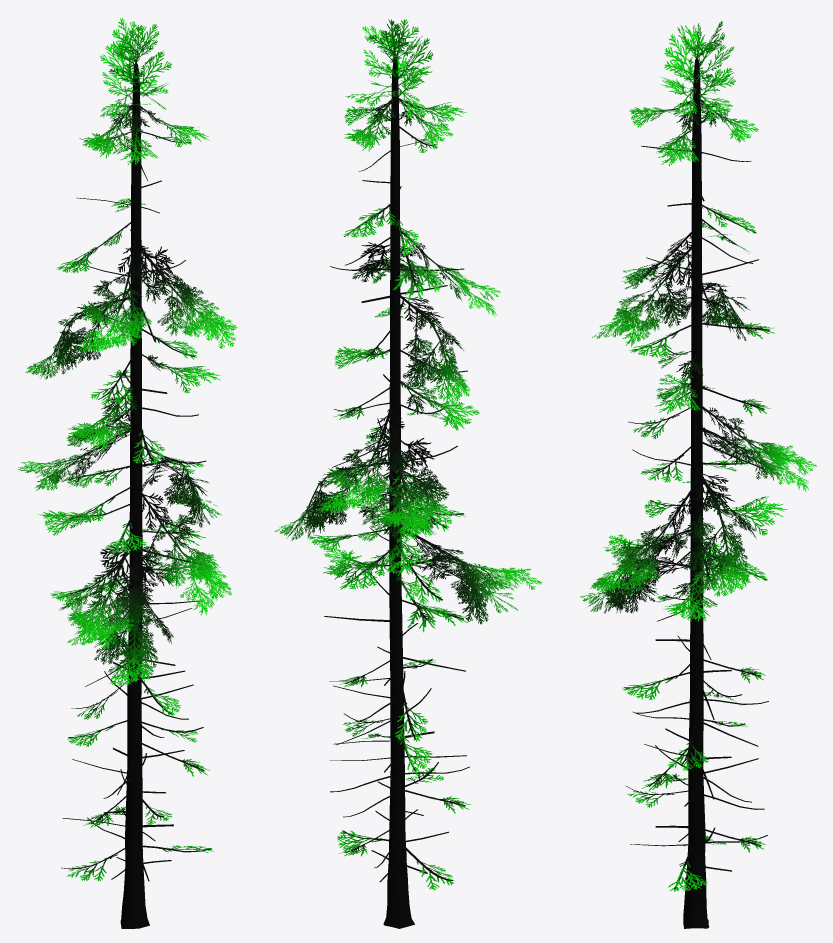
The model's file is Larger_SpruceA.fbx.
The picture shows the model from 3 angles, left to right: view 1: azimuth 30°, elevation 25°; view 2: azimuth 150°, elevation 25°; view 3: azimuth 270°, elevation 25°; orthographic projection.
Parts seen in each view (by area): view 1: SpruceTreeA; view 2: SpruceTreeA; view 3: SpruceTreeA.
Part boxes in pixels (bbox=[...]): SpruceTreeA: bbox=[18, 18, 237, 928]; SpruceTreeA: bbox=[274, 19, 541, 928]; SpruceTreeA: bbox=[580, 21, 816, 928].
Size of the model in its own units: 309 by 1270 by 309.
